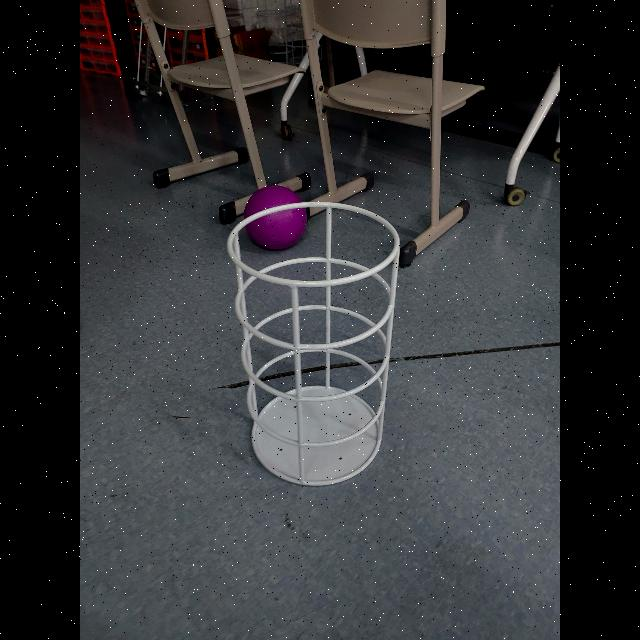S: (224, 200, 404, 490)
